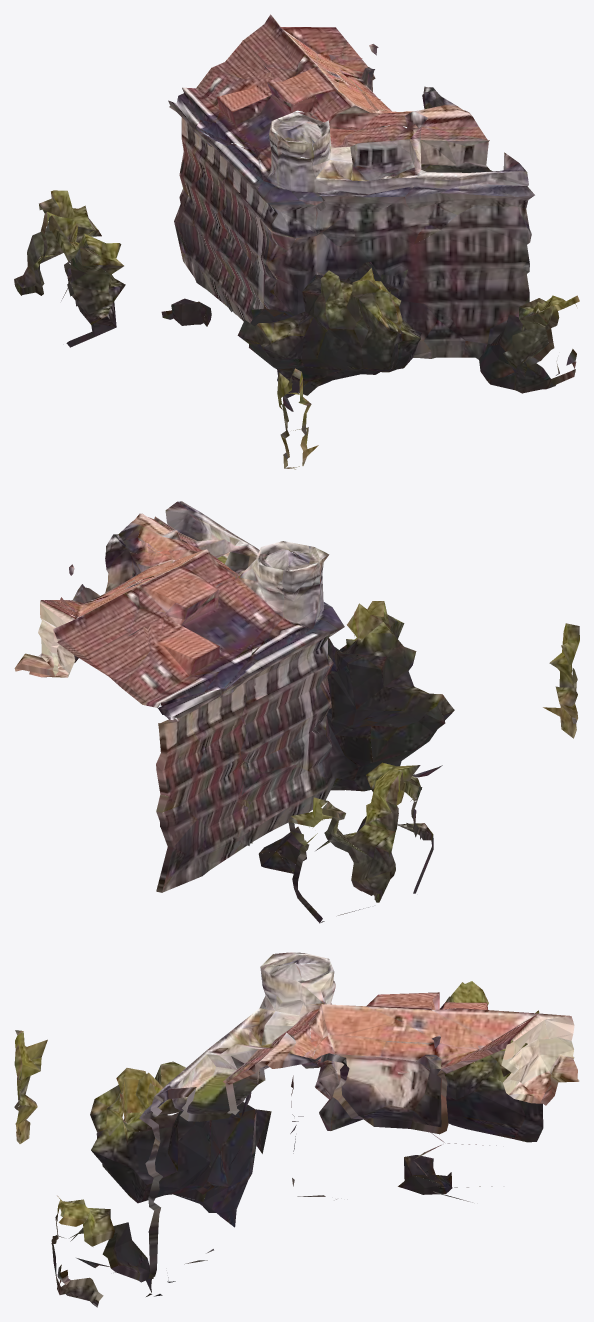
The picture shows the model from 3 angles, top to bottom: view 1: azimuth 30°, elevation 25°; view 2: azimuth 150°, elevation 25°; view 3: azimuth 270°, elevation 25°; orthographic projection. The views are drawn at different scales.
Visible parts, largest first — view 1: Mesh_0; view 2: Mesh_0; view 3: Mesh_0.
Part boxes in pixels (x1,y1,x2,y2): Mesh_0: [14, 14, 579, 469]; Mesh_0: [14, 501, 579, 923]; Mesh_0: [14, 952, 579, 1307].
Size of the model in its own units: 33.48 by 20.59 by 41.5.
2 materials, 2 textured.
